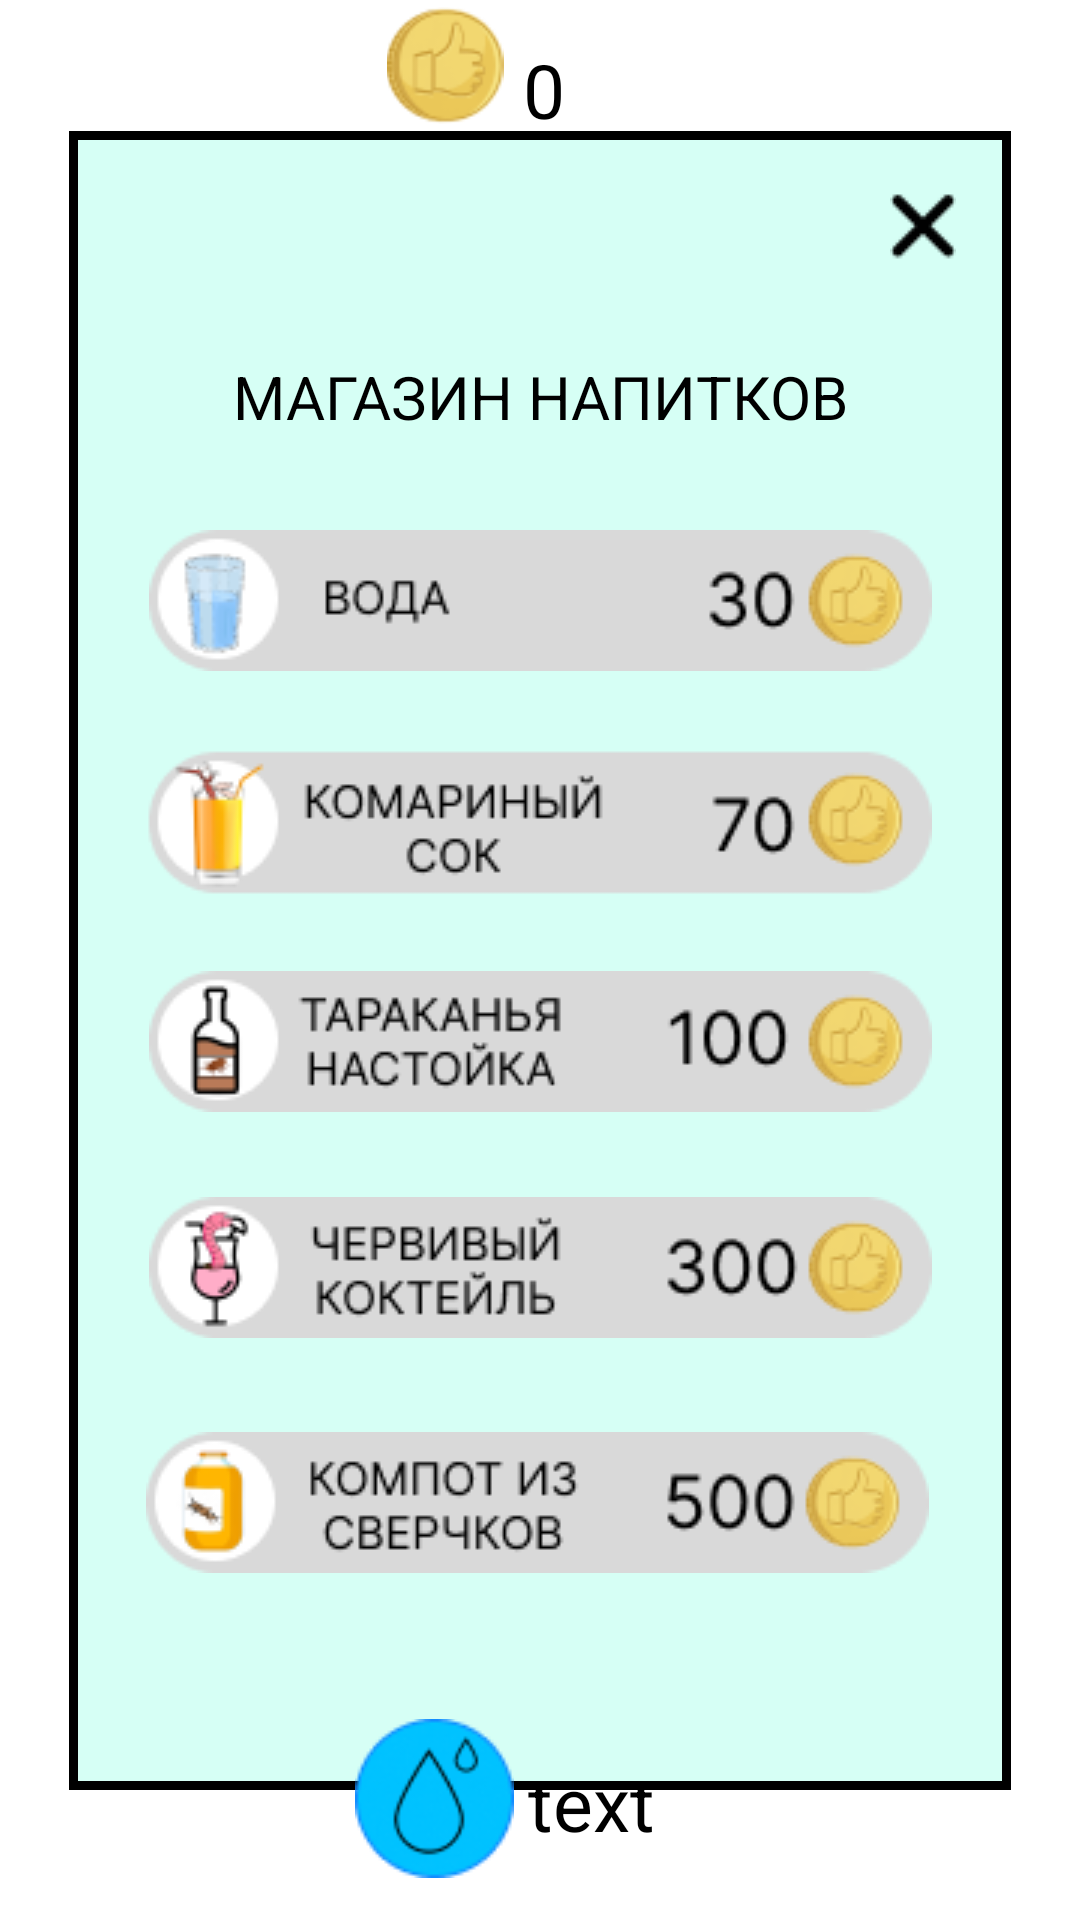

Icon click points for this 1080*1920 phone screenshot, format [x,y]:
coin: [445,65]
exit: [923,226]
